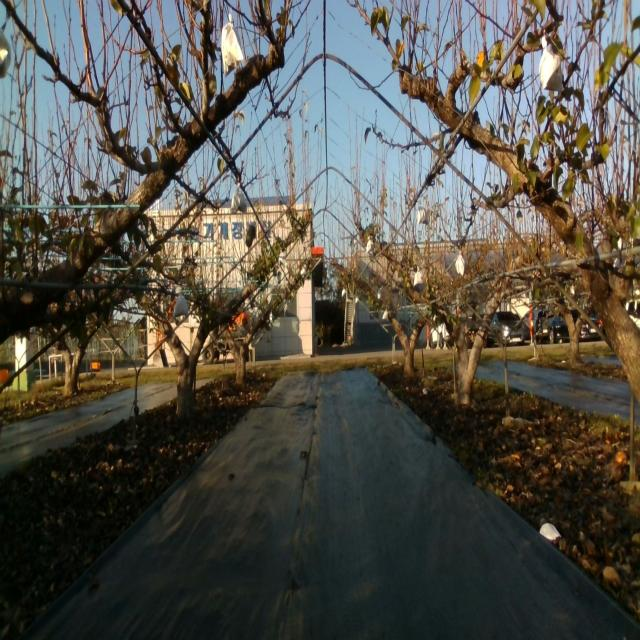pearbags: (220, 15, 244, 80), (538, 39, 564, 93), (230, 181, 247, 216), (172, 295, 188, 319), (417, 198, 429, 225)
